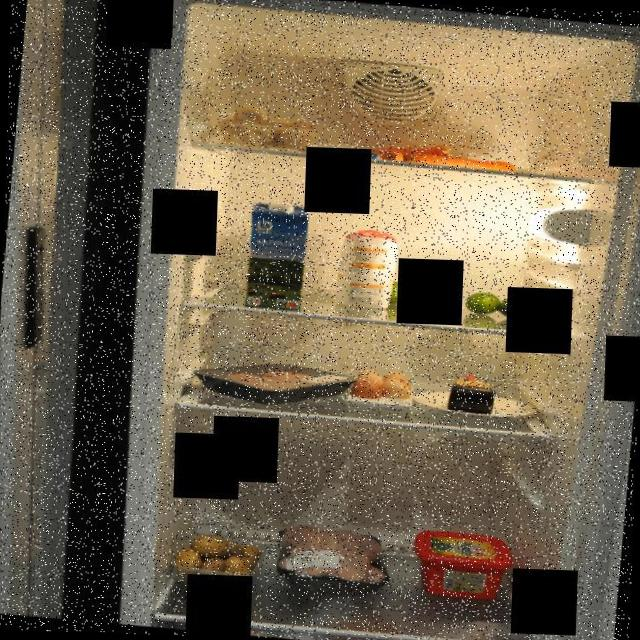Carne pollo: (267, 515, 400, 605), (185, 355, 361, 414)
Champiñones: (216, 100, 318, 154)
Huevos: (349, 366, 416, 407)
Leche: (239, 200, 309, 312)
Mantequilla: (406, 526, 517, 606)
Patata: (171, 530, 264, 591)
Queso: (443, 369, 498, 416)
Zanahoria: (360, 136, 520, 172)
